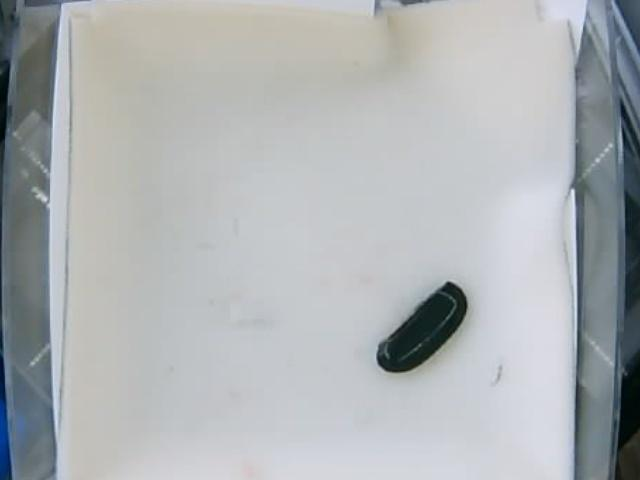Pebble: (375, 279, 470, 371)
